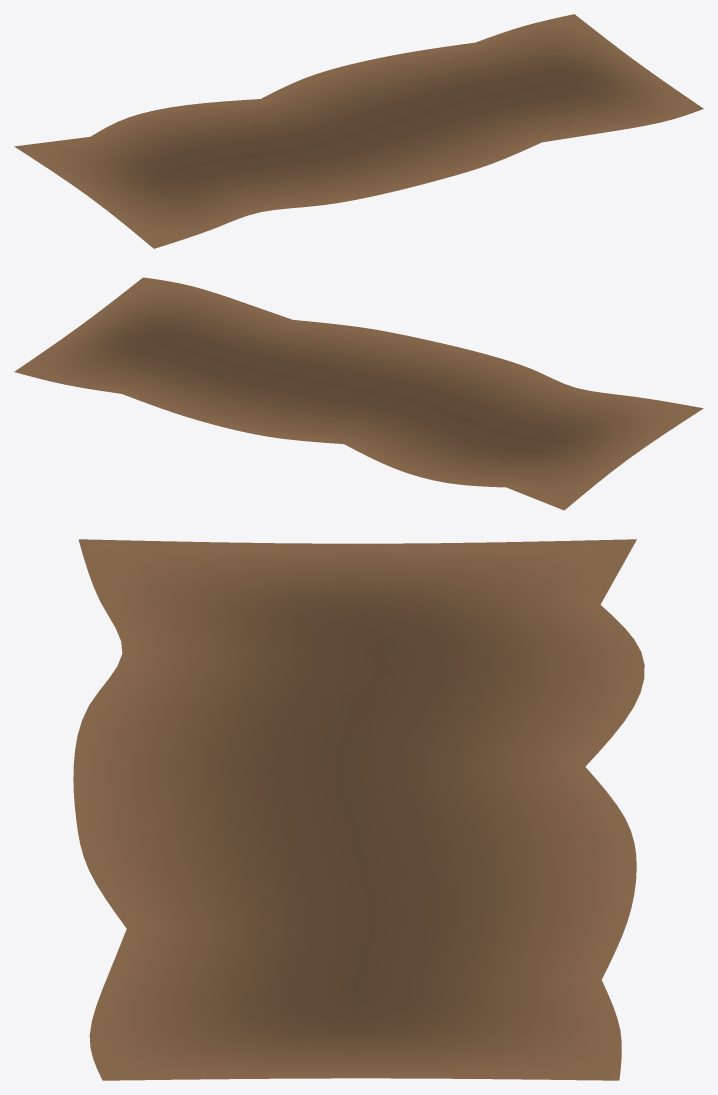
Rendered from ROAD_NAV.fbx.
3 views of the same model, one above another, from view 1: azimuth 30°, elevation 25°; view 2: azimuth 150°, elevation 25°; view 3: azimuth 270°, elevation 25° (orthographic). The views are drawn at different scales.
Parts seen in each view (by area): view 1: ROAD_NAV; view 2: ROAD_NAV; view 3: ROAD_NAV.
Part boxes in pixels (x1,y1,x2,y2): ROAD_NAV: [14, 14, 703, 248]; ROAD_NAV: [14, 277, 703, 510]; ROAD_NAV: [73, 539, 644, 1080].
Bounding box in the file's own units: 20 × 1.94e-16 × 8.92.
